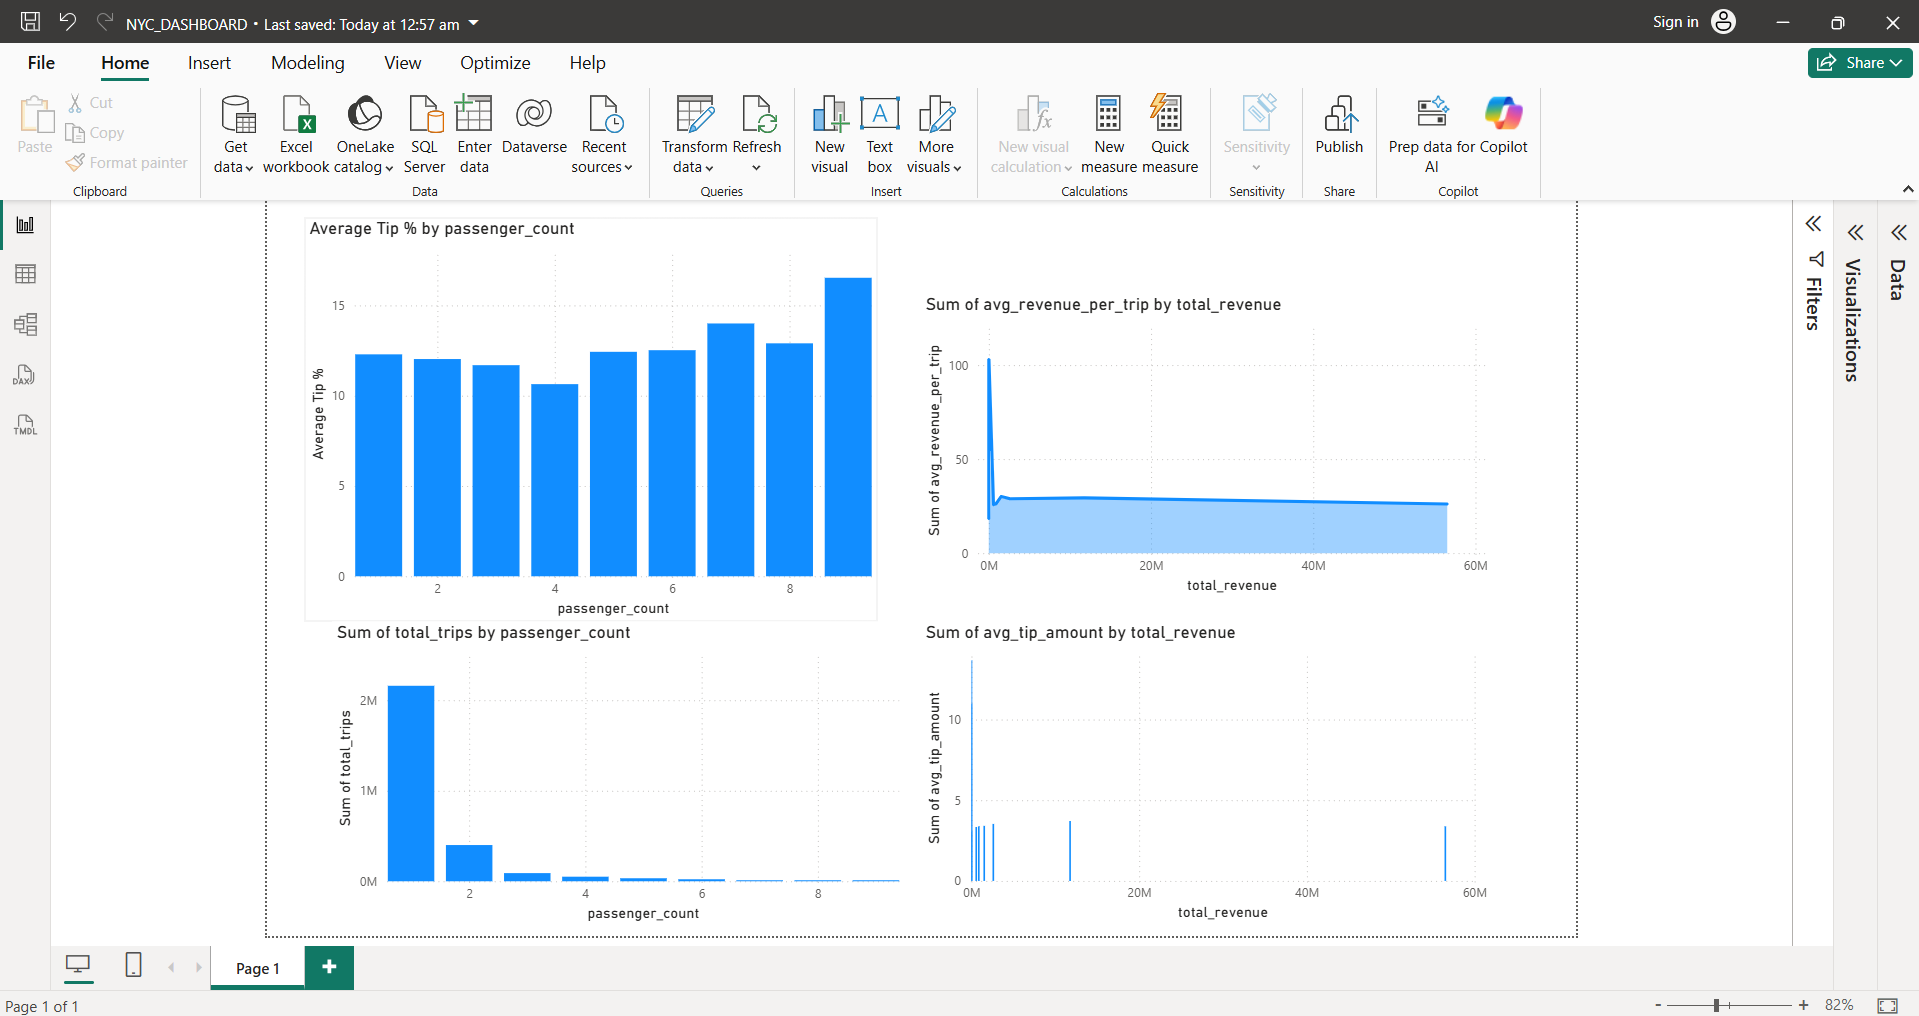

Layout of this report page (visuals, bound fields, positions):
{"tool":"powerbi","page":{"name":"Page 1","canvas":[1280,720],"ordinal":0},"visuals":[{"type":"clusteredColumnChart","fields":{"Category":["public mrt_trip_performance.passenger_count"],"Y":["Sum(public mrt_trip_performance.avg_tip_percentage)"]},"box":[36.7,17.1,560.1,395],"z":1},{"type":"areaChart","fields":{"Category":["public mrt_trip_performance.total_revenue"],"Y":["Sum(public mrt_trip_performance.avg_revenue_per_trip)"]},"box":[639.5,91.9,559.9,297.8],"z":2},{"type":"clusteredColumnChart","fields":{"Y":["Sum(public mrt_trip_performance.total_trips)"],"Category":["public mrt_trip_performance.passenger_count"]},"box":[63.6,412.1,560.1,298.4],"z":3},{"type":"lineStackedColumnComboChart","fields":{"Category":["public mrt_trip_performance.total_revenue"],"Y":["Sum(public mrt_trip_performance.avg_tip_amount)"]},"box":[639,412,560,298],"z":4}]}

Visuals, with their boxes on the page's 1280x720 design canvas (x1, y1, x2, y2). These are canvas units, not pixel positions in the 1919x1016 screenshot, which may show the page scaled, cropped or inside an application window:
clusteredColumnChart - public mrt_trip_performance.passenger_count x Sum(public mrt_trip_performance.avg_tip_percentage): (37, 17, 597, 412)
areaChart - public mrt_trip_performance.total_revenue x Sum(public mrt_trip_performance.avg_revenue_per_trip): (640, 92, 1199, 390)
clusteredColumnChart - Sum(public mrt_trip_performance.total_trips) x public mrt_trip_performance.passenger_count: (64, 412, 624, 710)
lineStackedColumnComboChart - public mrt_trip_performance.total_revenue x Sum(public mrt_trip_performance.avg_tip_amount): (639, 412, 1199, 710)
